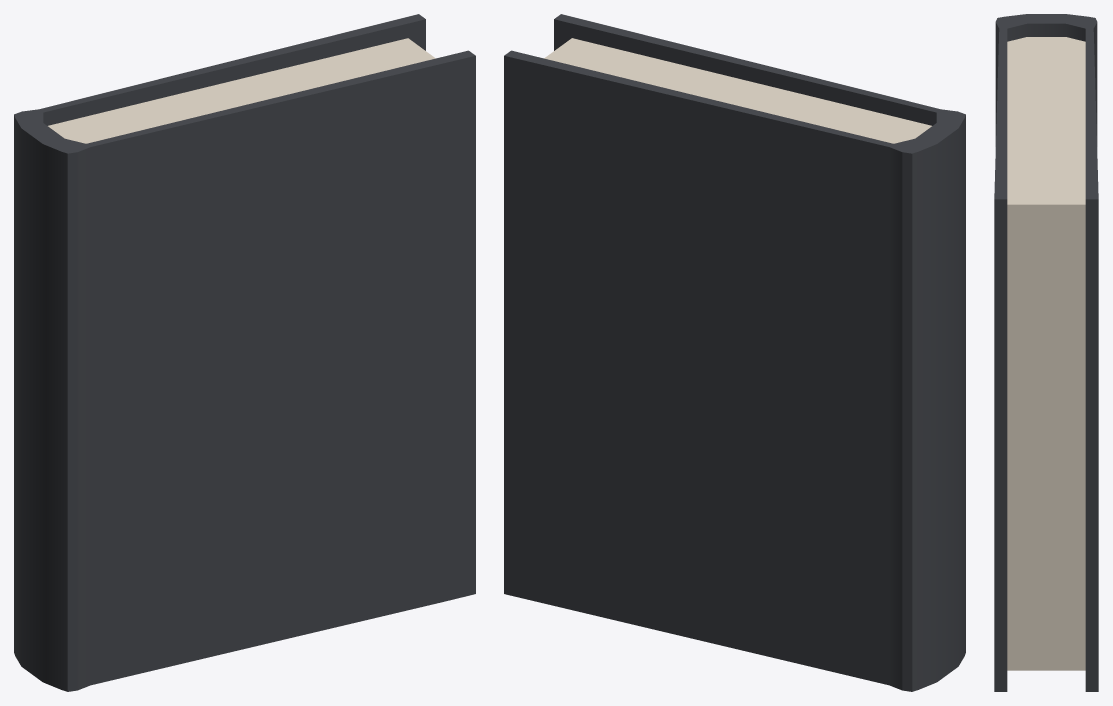
File: BookPile12.fbx
3 views of the same model, side by side, from view 1: azimuth 30°, elevation 25°; view 2: azimuth 150°, elevation 25°; view 3: azimuth 270°, elevation 25° (orthographic). The views are drawn at different scales.
Visible parts, largest first — view 1: polySurface107; view 2: polySurface107; view 3: polySurface107.
Part boxes in pixels (left/top/right/bottom): polySurface107: left=14, top=14, right=475, bottom=691; polySurface107: left=504, top=14, right=965, bottom=691; polySurface107: left=994, top=14, right=1098, bottom=691.
Bounding box in the file's own units: 0.4351 × 0.5391 × 0.1035.
